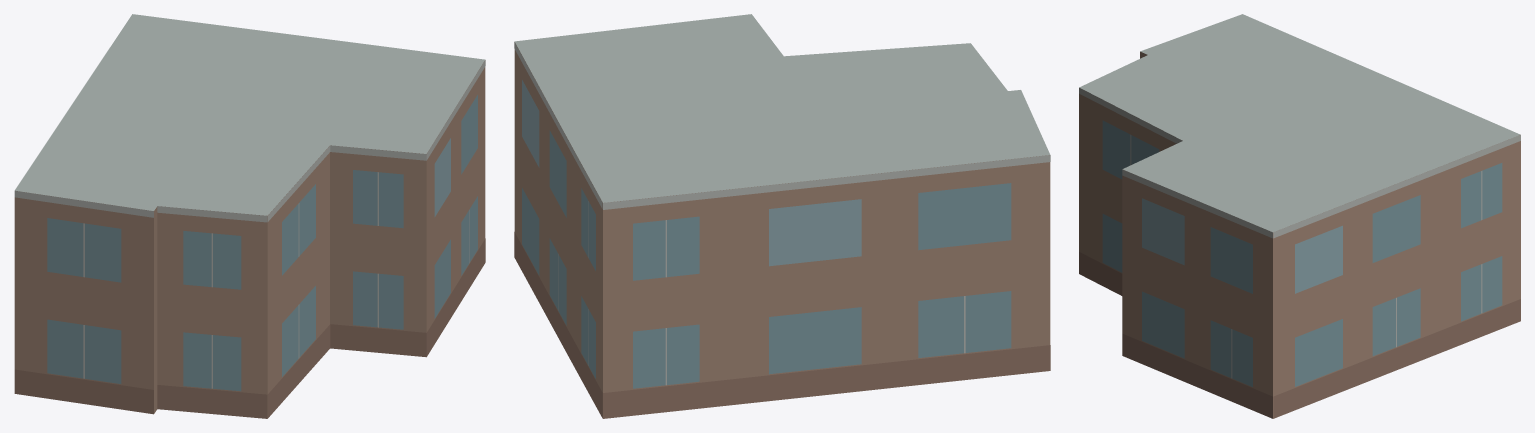
Rendered from survey-upis-32625313.glb.
3 renders of one model, left to right at view 1: azimuth 30°, elevation 25°; view 2: azimuth 150°, elevation 25°; view 3: azimuth 270°, elevation 25°, orthographic. The views are drawn at different scales.
Visible parts, largest first — view 1: survey-upis-32625313.tmp; view 2: survey-upis-32625313.tmp; view 3: survey-upis-32625313.tmp.
Part boxes in pixels (bbox=[...]): survey-upis-32625313.tmp: bbox=[14, 14, 485, 418]; survey-upis-32625313.tmp: bbox=[514, 14, 1050, 418]; survey-upis-32625313.tmp: bbox=[1079, 14, 1520, 418].
Size of the model in its own units: 18.6 by 7.4 by 15.89.
